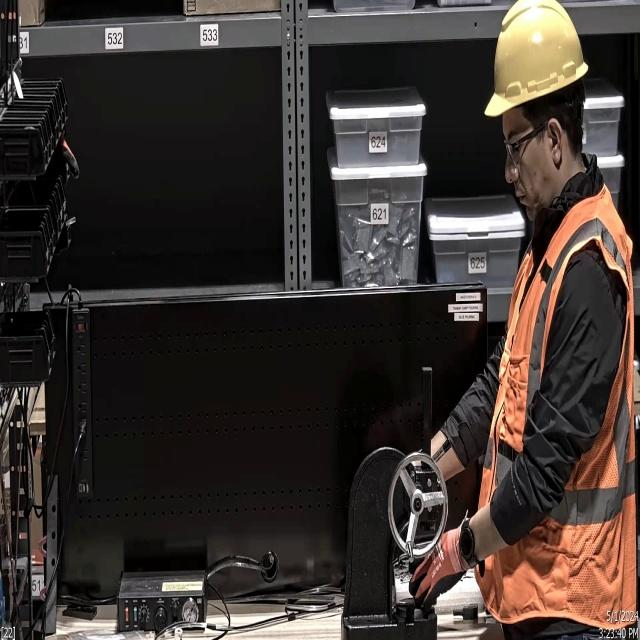construction-gloves: (408, 526, 462, 616)
